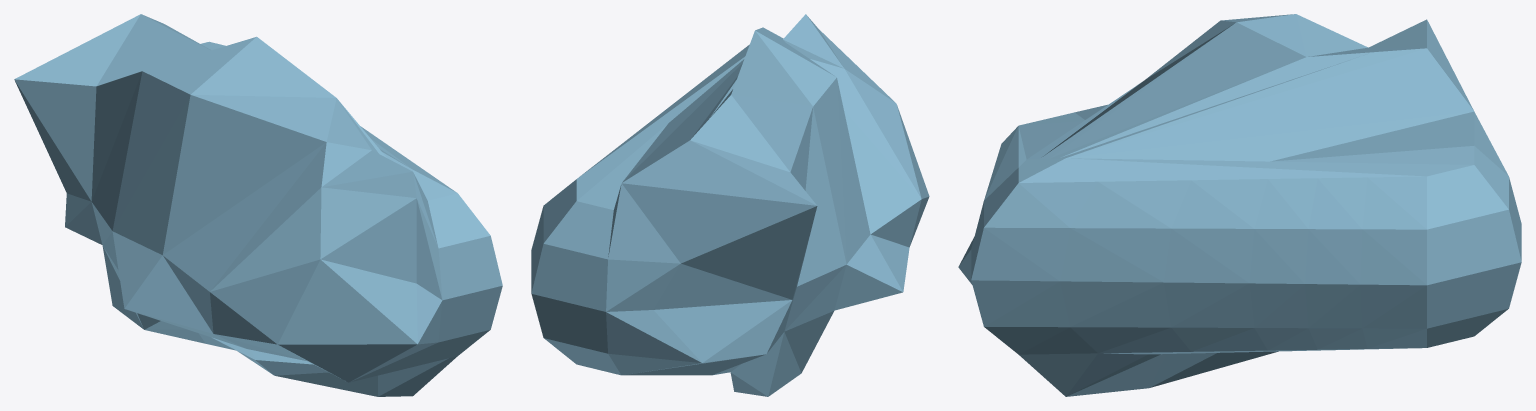
File: bulut2.fbx
3 renders of one model, left to right at view 1: azimuth 30°, elevation 25°; view 2: azimuth 150°, elevation 25°; view 3: azimuth 270°, elevation 25°, orthographic. The views are drawn at different scales.
Parts seen in each view (by area): view 1: Sphere; view 2: Sphere; view 3: Sphere.
Boxes of the visible parts, x1=… form: Sphere: x1=14, y1=14, x2=502, y2=396; Sphere: x1=531, y1=14, x2=929, y2=396; Sphere: x1=958, y1=14, x2=1521, y2=396.
Size of the model in its own units: 317 by 339 by 515.
